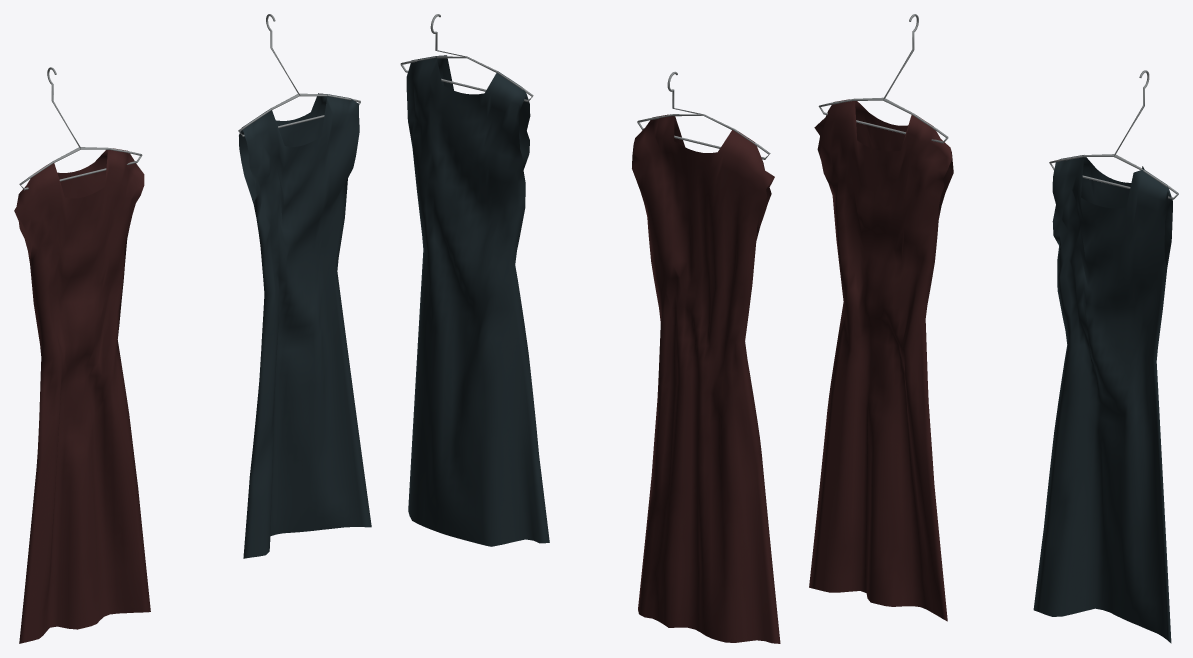
Rendered from her_dresses.glb.
The picture shows the model from 3 angles, left to right: view 1: azimuth 30°, elevation 25°; view 2: azimuth 150°, elevation 25°; view 3: azimuth 330°, elevation 25°; orthographic projection. The views are drawn at different scales.
Visible parts, largest first — view 1: RoseDress, BlueDress, RoseDress_Hanger, BlueDress_Hanger; view 2: RoseDress, BlueDress, RoseDress_Hanger, BlueDress_Hanger; view 3: RoseDress, BlueDress, RoseDress_Hanger, BlueDress_Hanger.
Boxes of the visible parts, <box> form: RoseDress: <box>14,148,150,643</box>; BlueDress: <box>239,93,371,558</box>; RoseDress_Hanger: <box>19,67,142,190</box>; BlueDress_Hanger: <box>238,14,360,136</box>; RoseDress: <box>632,114,780,643</box>; BlueDress: <box>406,55,549,546</box>; RoseDress_Hanger: <box>637,71,770,159</box>; BlueDress_Hanger: <box>400,14,533,101</box>; RoseDress: <box>809,99,953,621</box>; BlueDress: <box>1033,155,1172,643</box>; RoseDress_Hanger: <box>818,14,948,143</box>; BlueDress_Hanger: <box>1049,70,1178,199</box>.
Bounding box in the file's own units: 0.9235 × 1.36 × 0.2083.
Materials: 4 (2 with a texture image).
